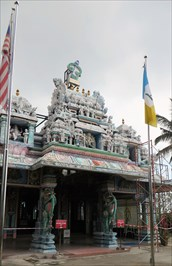Hindu Temple: (18, 58, 142, 187)
